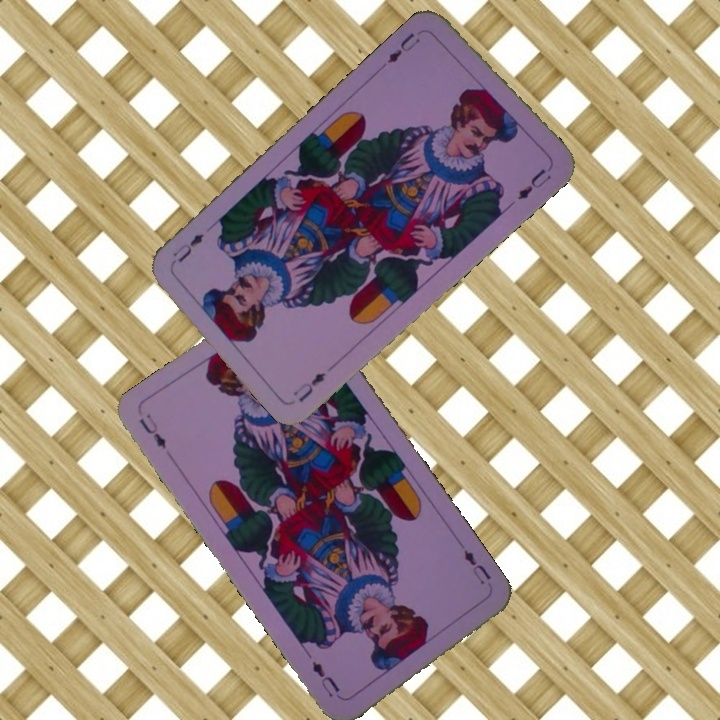EU: (383, 28, 423, 66), (289, 368, 329, 405), (459, 546, 494, 588), (134, 410, 169, 452)
